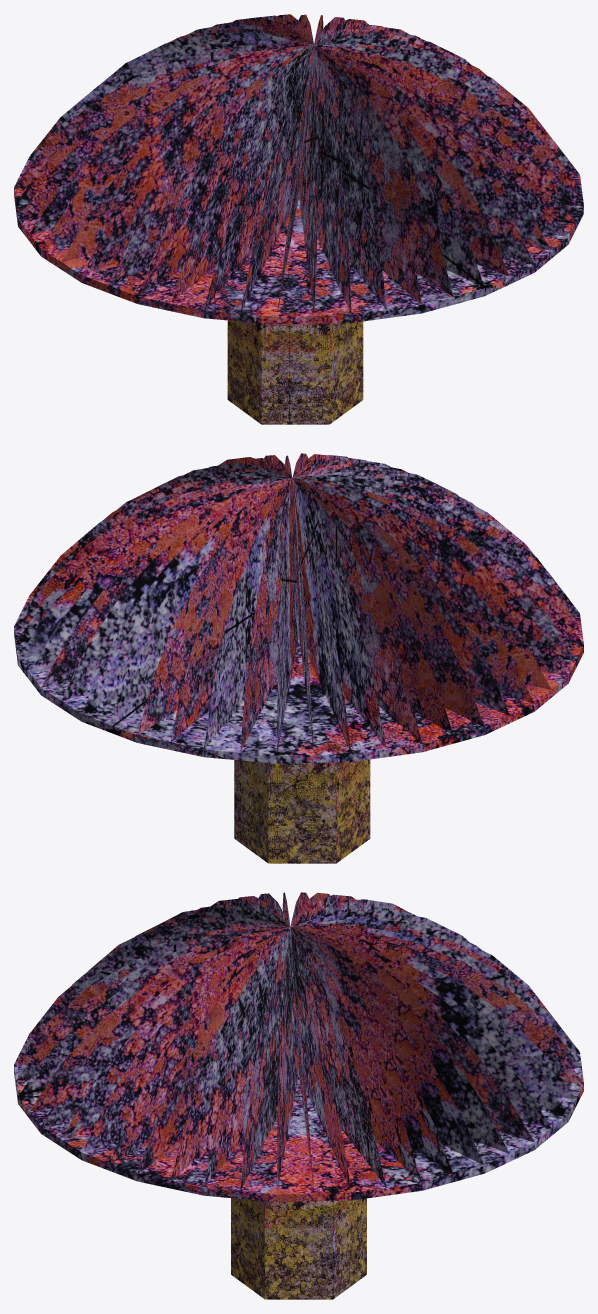
File: Fungus.dae
3 renders of one model, top to bottom at view 1: azimuth 30°, elevation 25°; view 2: azimuth 150°, elevation 25°; view 3: azimuth 270°, elevation 25°, orthographic.
Visible parts, largest first — view 1: SketchUp (×2); view 2: SketchUp (×2); view 3: SketchUp (×2).
Boxes of the visible parts, x1=… form: SketchUp (×2): x1=14, y1=14, x2=583, y2=424; SketchUp (×2): x1=14, y1=453, x2=583, y2=863; SketchUp (×2): x1=14, y1=892, x2=583, y2=1299.
Size of the model in its own units: 79.29 by 79.29 by 54.68.
3 materials, 3 textured.
